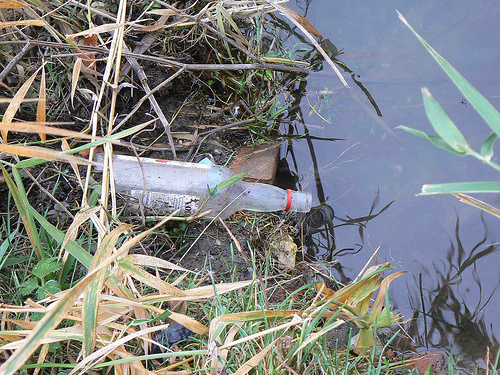litter: (91, 152, 313, 222), (153, 325, 194, 352)
